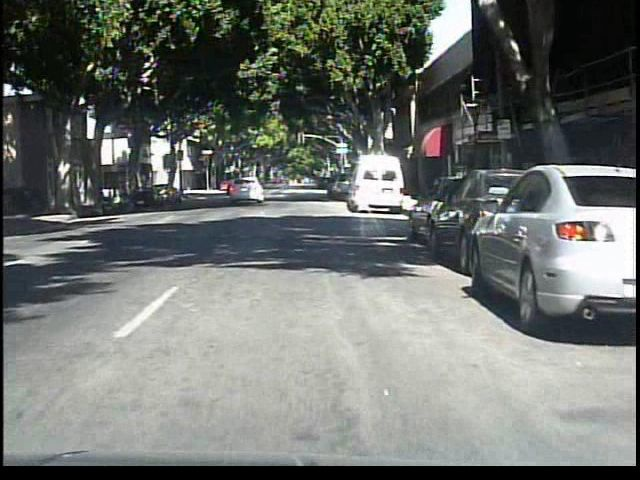person: (273, 166, 294, 199)
